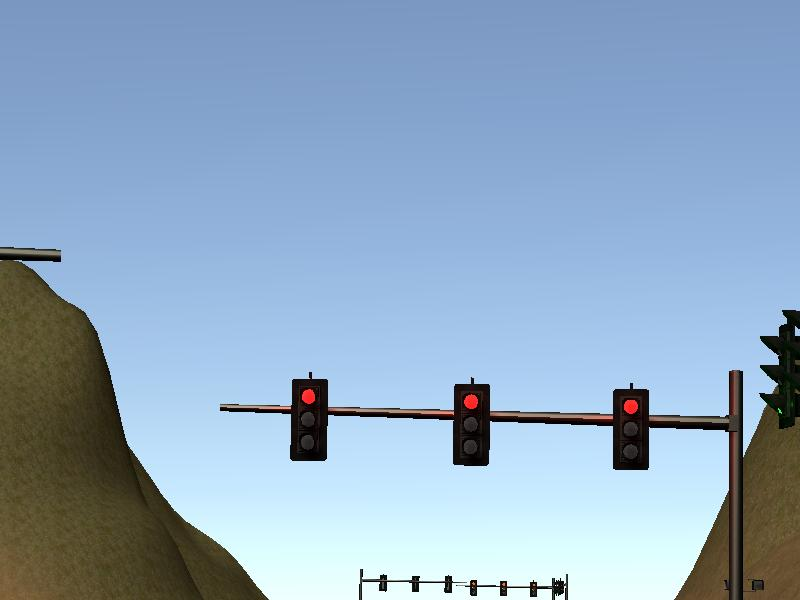Red: (452, 385, 490, 462), (289, 380, 325, 460), (613, 388, 648, 469)
